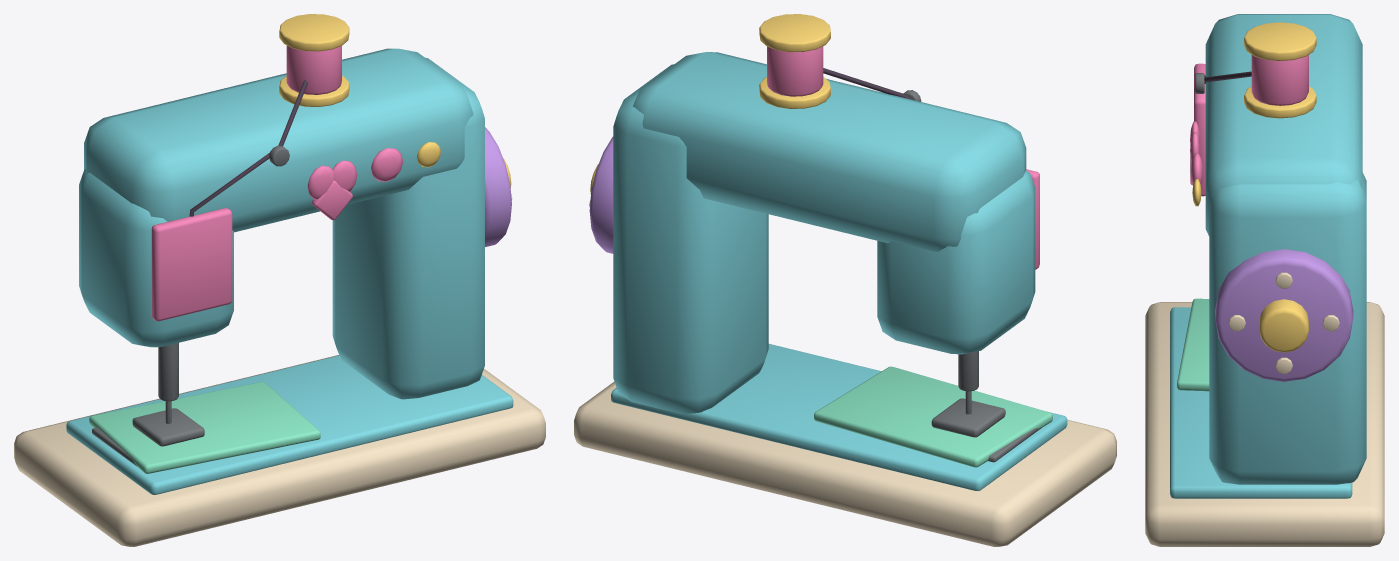
The model's file is sewing_machine.glb.
3 views of the same model, side by side, from view 1: azimuth 30°, elevation 25°; view 2: azimuth 150°, elevation 25°; view 3: azimuth 270°, elevation 25° (orthographic). The views are drawn at different scales.
Visible parts, largest first — view 1: kawaii_sewing_machine; view 2: kawaii_sewing_machine; view 3: kawaii_sewing_machine.
Part boxes in pixels (left/top/right/bottom): kawaii_sewing_machine: left=14, top=14, right=545, bottom=546; kawaii_sewing_machine: left=574, top=14, right=1116, bottom=546; kawaii_sewing_machine: left=1145, top=14, right=1384, bottom=546.
Size of what is drawn, in the model's own units: 1.21 by 1.09 by 0.5475.
1 material, 1 textured.
